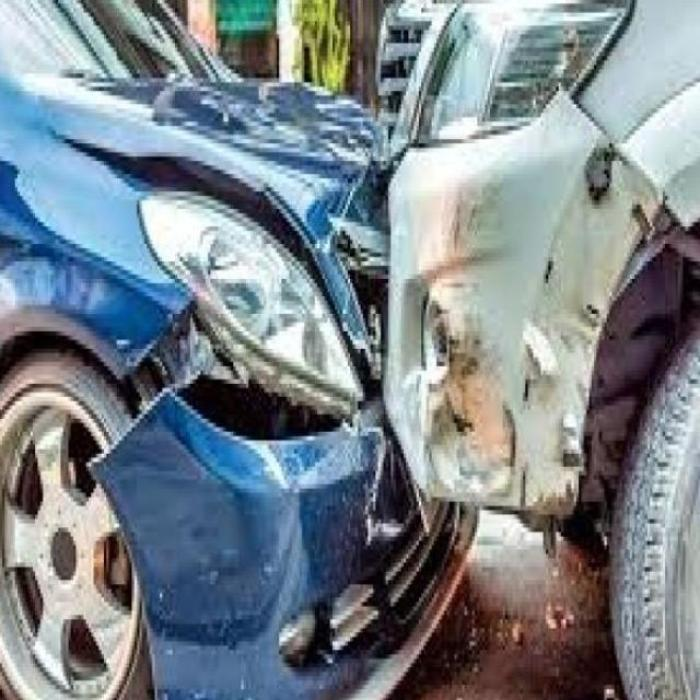Accident: (37, 0, 665, 700)
